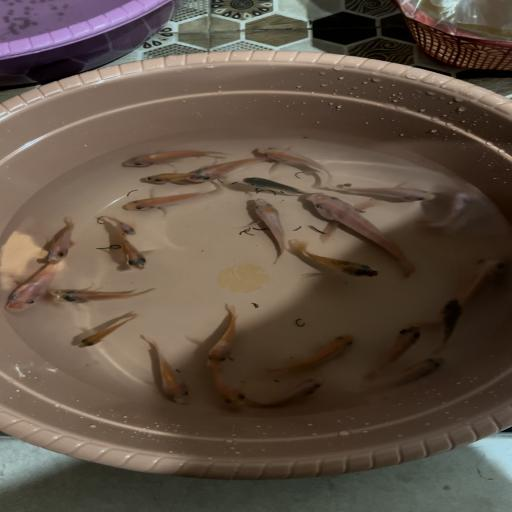nila: (304, 190, 423, 276), (133, 334, 194, 406), (286, 240, 386, 283), (268, 334, 356, 377), (246, 196, 298, 263), (361, 324, 425, 378), (254, 142, 340, 180), (50, 282, 158, 311), (198, 304, 246, 368), (339, 178, 447, 206), (373, 356, 447, 396), (0, 265, 60, 313), (121, 189, 227, 216), (71, 313, 143, 351), (459, 252, 507, 308), (115, 147, 230, 169), (246, 378, 325, 410), (423, 190, 476, 234), (188, 156, 270, 184), (199, 366, 245, 412), (42, 215, 79, 266), (433, 296, 464, 352), (238, 174, 310, 198), (110, 236, 154, 272), (136, 170, 206, 190), (101, 214, 142, 236)
